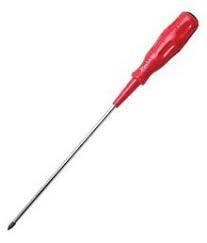screwdriver: (5, 10, 198, 230)
